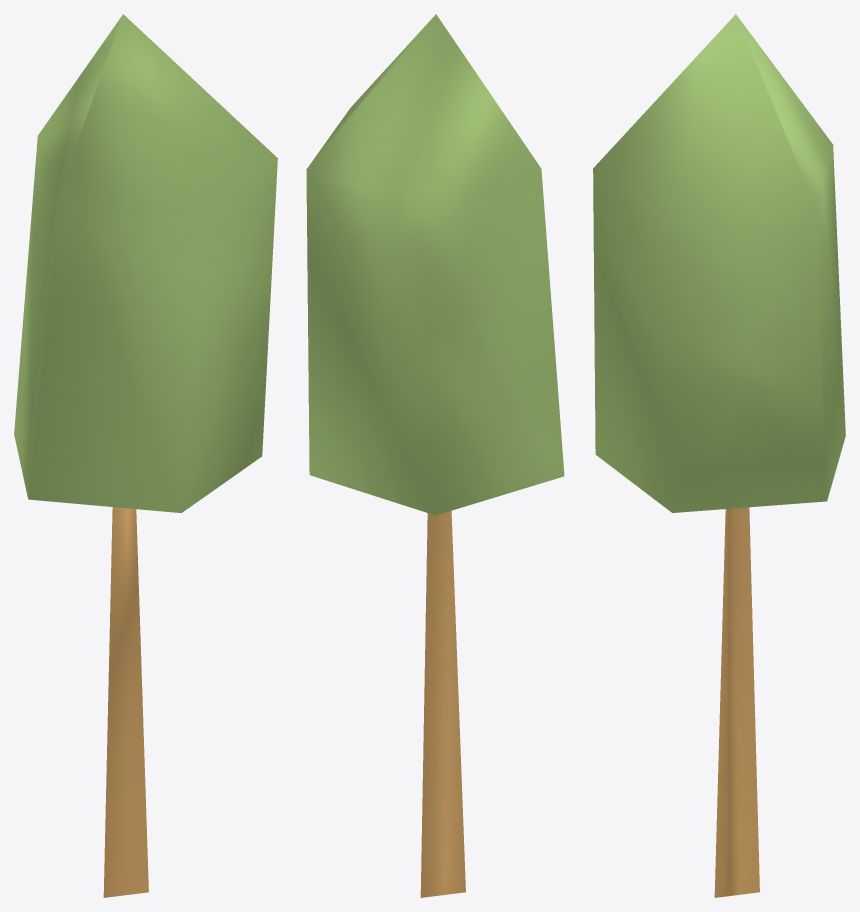
The picture shows the model from 3 angles, left to right: view 1: azimuth 30°, elevation 25°; view 2: azimuth 150°, elevation 25°; view 3: azimuth 270°, elevation 25°; orthographic projection.
Parts seen in each view (by area): view 1: LOD2Poros1.001; view 2: LOD2Poros1.001; view 3: LOD2Poros1.001.
Boxes of the visible parts, bbox=[...] form: LOD2Poros1.001: bbox=[14, 14, 277, 897]; LOD2Poros1.001: bbox=[306, 14, 564, 897]; LOD2Poros1.001: bbox=[593, 14, 845, 897].
Bounding box in the file's own units: 2.7 × 9.72 × 2.54.
Materials: 1 (1 with a texture image).
